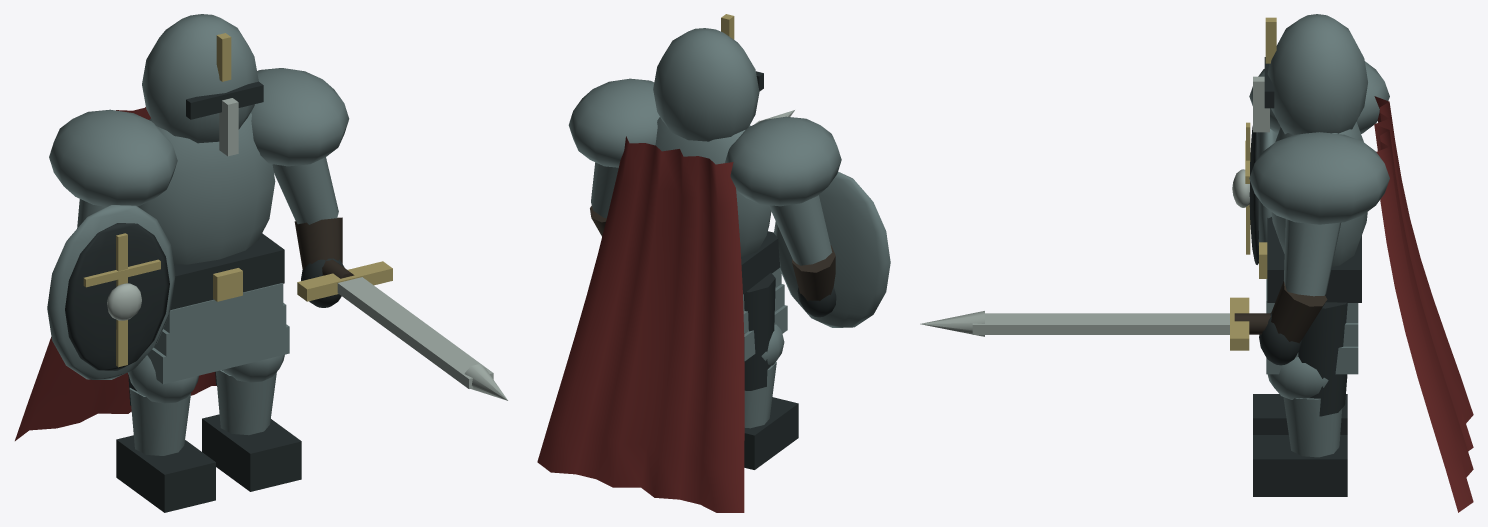
Rendered from warden.glb.
3 views of the same model, side by side, from view 1: azimuth 30°, elevation 25°; view 2: azimuth 150°, elevation 25°; view 3: azimuth 270°, elevation 25° (orthographic). The views are drawn at different scales.
Visible parts, largest first — view 1: body, shield, head, legL, legR, weapon, cape, armR; view 2: cape, body, head, shield, legL, armL, armR; view 3: body, legR, cape, head, weapon, armR, shield, legL.
Boxes of the visible parts, box(x1,y1,x2,y2) form: body: box(49, 68, 349, 384); shield: box(47, 205, 175, 379); head: box(142, 14, 263, 156); legL: box(116, 355, 215, 512); legR: box(202, 354, 301, 491); weapon: box(297, 259, 507, 400); cape: box(15, 107, 216, 440); armR: box(272, 157, 344, 307); cape: box(537, 136, 744, 512); body: box(568, 78, 841, 361); head: box(653, 14, 763, 141); shield: box(774, 171, 890, 327); legL: box(744, 273, 798, 469); armL: box(769, 195, 836, 317); armR: box(590, 162, 618, 236); body: box(1249, 61, 1389, 374); legR: box(1253, 302, 1347, 496); cape: box(1374, 96, 1473, 512); head: box(1253, 14, 1367, 134); weapon: box(920, 297, 1270, 350); armR: box(1259, 219, 1340, 365); shield: box(1232, 122, 1277, 264); legL: box(1253, 394, 1347, 434).
Bounding box in the file's own units: 1.52 × 2.02 × 2.28.
